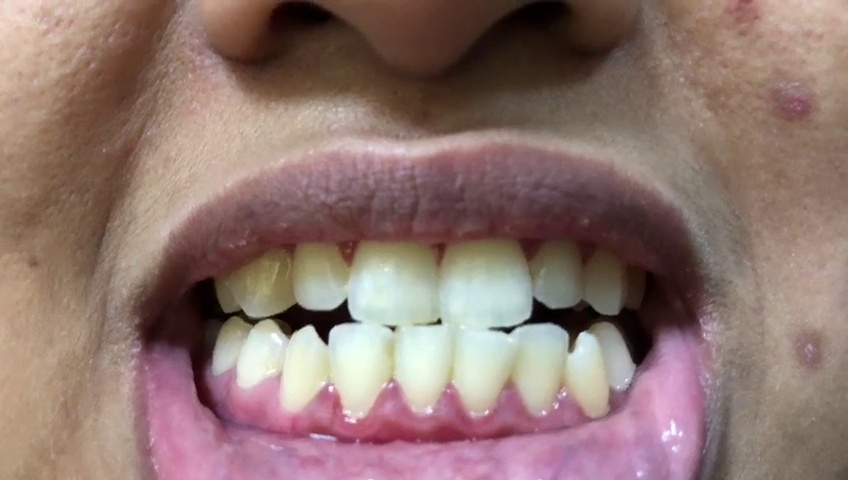1st Premolar: (236, 321, 286, 391), (594, 323, 637, 391)
2nd Premolar: (213, 317, 246, 377)
Canine: (228, 248, 294, 318), (279, 325, 327, 413), (567, 331, 611, 419), (586, 238, 626, 314)
Central Incisor: (438, 232, 536, 327), (348, 229, 440, 325), (453, 324, 517, 421), (395, 322, 453, 414)
Lateral Incisor: (330, 321, 395, 422), (513, 323, 567, 420), (291, 233, 350, 310), (531, 231, 585, 308)
